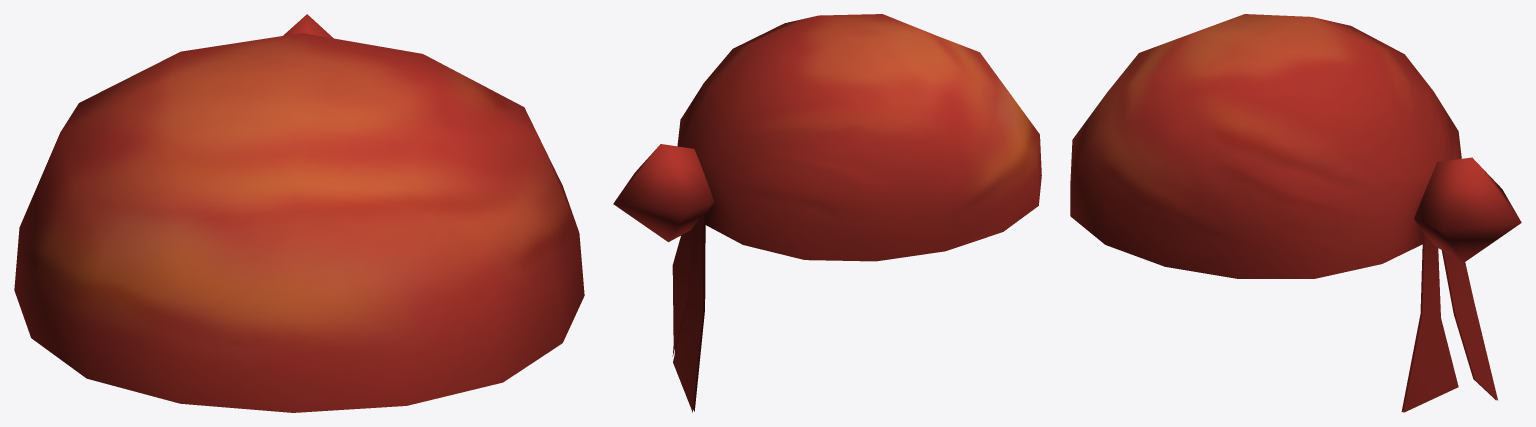
Rendered from traveler_cap03.FBX.
The picture shows the model from 3 angles, left to right: view 1: azimuth 30°, elevation 25°; view 2: azimuth 150°, elevation 25°; view 3: azimuth 270°, elevation 25°; orthographic projection. The views are drawn at different scales.
Parts seen in each view (by area): view 1: traveler_cap03; view 2: traveler_cap03; view 3: traveler_cap03.
Boxes of the visible parts, <box> form: traveler_cap03: <box>14,14,584,412</box>; traveler_cap03: <box>613,14,1041,412</box>; traveler_cap03: <box>1070,14,1521,412</box>.
Bounding box in the file's own units: 67.89 × 62.45 × 77.78.
